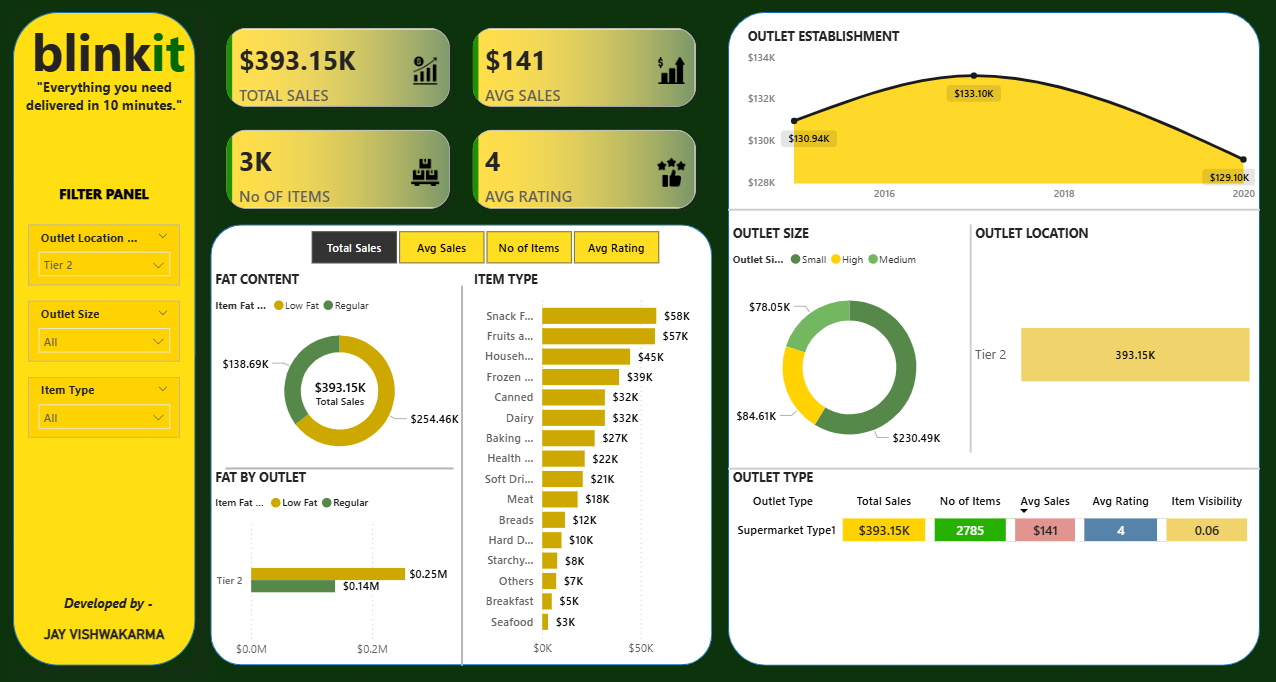

This screenshot's page, from the dashboard's own definition file:
{"tool":"powerbi","page":{"name":"Page 1","canvas":[1350,726],"ordinal":0},"visuals":[{"type":"shape","box":[16,16,192,688],"z":0},{"type":"textbox","box":[16,16,192,144],"z":1000},{"type":"textbox","box":[16,80,192,128],"z":2000},{"type":"cardVisual","fields":{"Data":["BlinkIT Grocery Data.Total Sales","BlinkIT Grocery Data.Avg Sales","BlinkIT Grocery Data.No of Items","BlinkIT Grocery Data.Avg Rating"]},"box":[224,16,528,224],"z":3000},{"type":"shape","box":[224,240,528,464],"z":4000},{"type":"donutChart","title":"FAT CONTENT","fields":{"Y":["BlinkIT Grocery Data.Total Sales"],"Category":["BlinkIT Grocery Data.Item Fat Content"]},"box":[224,288,272,208],"z":5000},{"type":"slicer","fields":{"Values":["Metrics.Metrics"]},"box":[304,240,416,48],"z":6000},{"type":"cardVisual","fields":{"Data":["BlinkIT Grocery Data.Total Sales"]},"box":[304,384,112,64],"z":7000},{"type":"clusteredBarChart","title":"FAT BY OUTLET","fields":{"Y":["BlinkIT Grocery Data.Total Sales"],"Category":["BlinkIT Grocery Data.Outlet Location Type"],"Series":["BlinkIT Grocery Data.Item Fat Content"]},"box":[224,496,272,208],"z":8000},{"type":"shape","box":[240,480,240,32],"z":9000},{"type":"shape","box":[464,304,48,400],"z":10000},{"type":"barChart","title":"ITEM TYPE","fields":{"Y":["BlinkIT Grocery Data.Total Sales"],"Category":["BlinkIT Grocery Data.Item Type"]},"box":[496,288,256,416],"z":11000},{"type":"shape","box":[768,16,560,688],"z":12000},{"type":"lineChart","title":"OUTLET ESTABLISHMENT","fields":{"Y":["BlinkIT Grocery Data.Total Sales"],"Category":["BlinkIT Grocery Data.Outlet Establishment Year"]},"box":[784,32,544,192],"z":13000},{"type":"donutChart","title":"OUTLET SIZE","fields":{"Y":["BlinkIT Grocery Data.Total Sales"],"Category":["BlinkIT Grocery Data.Outlet Size"]},"box":[768,240,256,256],"z":14000},{"type":"funnel","title":"OUTLET LOCATION","fields":{"Y":["Sum(BlinkIT Grocery Data.Sales)"],"Category":["BlinkIT Grocery Data.Outlet Location Type"]},"box":[1024,240,304,256],"z":15000},{"type":"pivotTable","title":"OUTLET TYPE","fields":{"Rows":["BlinkIT Grocery Data.Outlet Type"],"Values":["BlinkIT Grocery Data.Total Sales","BlinkIT Grocery Data.No of Items","BlinkIT Grocery Data.Avg Sales","BlinkIT Grocery Data.Avg Rating","Avg(BlinkIT Grocery Data.Item Visibility)"]},"box":[768,496,560,192],"z":16000},{"type":"shape","box":[768,208,560,32],"z":17000},{"type":"shape","box":[1008,240,32,240],"z":18000},{"type":"shape","box":[768,464,560,64],"z":19000},{"type":"slicer","fields":{"Values":["BlinkIT Grocery Data.Outlet Location Type"]},"box":[32,240,160,64],"z":20000},{"type":"slicer","fields":{"Values":["BlinkIT Grocery Data.Outlet Size"]},"box":[32,320,160,64],"z":21000},{"type":"slicer","fields":{"Values":["BlinkIT Grocery Data.Item Type"]},"box":[32,400,160,64],"z":22000},{"type":"textbox","box":[32,192,160,32],"z":23000},{"type":"textbox","box":[64,624,112,32],"z":24000},{"type":"textbox","box":[16,656,192,32],"z":25000}]}

Visuals, with their boxes in screenshot pixels (x1, y1, x2, y2), scaled from the page's 1350x726 canvas onto the 1276x682 screenshot:
shape: <region>15, 15, 197, 661</region>
textbox: <region>15, 15, 197, 150</region>
textbox: <region>15, 75, 197, 195</region>
cardVisual - BlinkIT Grocery Data.Total Sales x BlinkIT Grocery Data.Avg Sales: <region>212, 15, 711, 225</region>
shape: <region>212, 225, 711, 661</region>
"FAT CONTENT" donutChart: <region>212, 271, 469, 466</region>
slicer - Metrics.Metrics: <region>287, 225, 681, 271</region>
cardVisual - BlinkIT Grocery Data.Total Sales: <region>287, 361, 393, 421</region>
"FAT BY OUTLET" clusteredBarChart: <region>212, 466, 469, 661</region>
shape: <region>227, 451, 454, 481</region>
shape: <region>439, 286, 484, 661</region>
"ITEM TYPE" barChart: <region>469, 271, 711, 661</region>
shape: <region>726, 15, 1255, 661</region>
"OUTLET ESTABLISHMENT" lineChart: <region>741, 30, 1255, 210</region>
"OUTLET SIZE" donutChart: <region>726, 225, 968, 466</region>
"OUTLET LOCATION" funnel: <region>968, 225, 1255, 466</region>
"OUTLET TYPE" pivotTable: <region>726, 466, 1255, 646</region>
shape: <region>726, 195, 1255, 225</region>
shape: <region>953, 225, 983, 451</region>
shape: <region>726, 436, 1255, 496</region>
slicer - BlinkIT Grocery Data.Outlet Location Type: <region>30, 225, 181, 286</region>
slicer - BlinkIT Grocery Data.Outlet Size: <region>30, 301, 181, 361</region>
slicer - BlinkIT Grocery Data.Item Type: <region>30, 376, 181, 436</region>
textbox: <region>30, 180, 181, 210</region>
textbox: <region>60, 586, 166, 616</region>
textbox: <region>15, 616, 197, 646</region>
